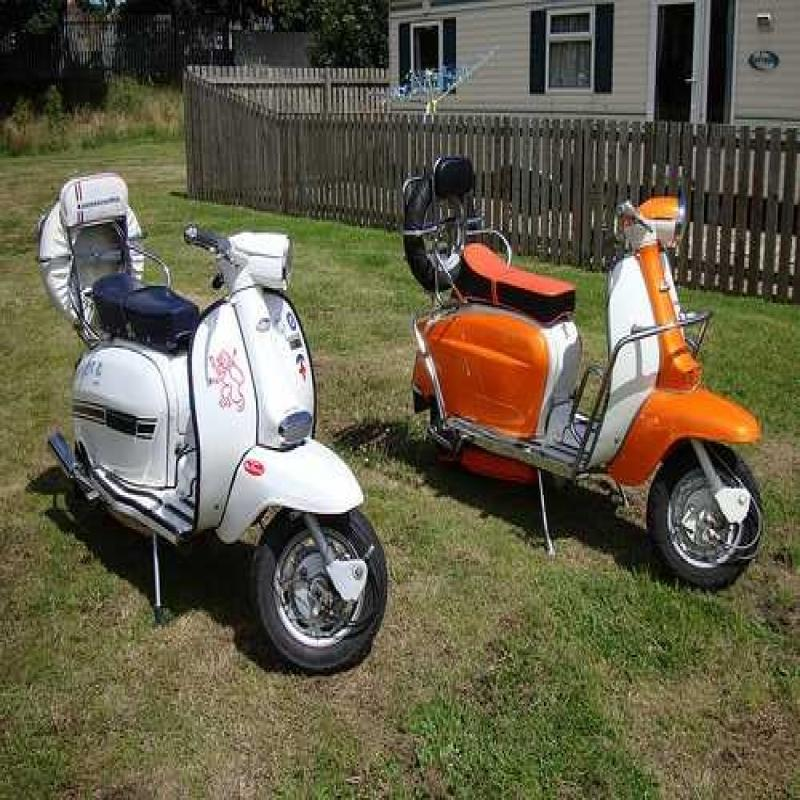bike: (40, 134, 393, 679), (385, 136, 768, 586)
